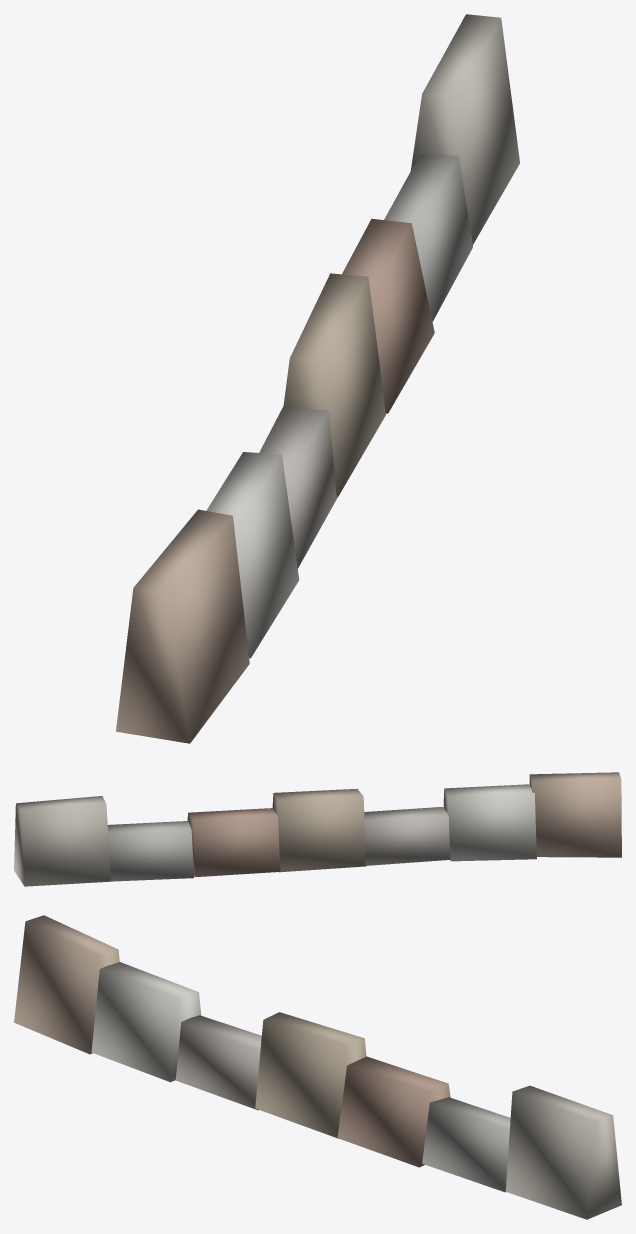
The model's file is farm_-3_13_far.glb.
3 renders of one model, top to bottom at view 1: azimuth 30°, elevation 25°; view 2: azimuth 150°, elevation 25°; view 3: azimuth 270°, elevation 25°, orthographic. The views are drawn at different scales.
Parts seen in each view (by area): view 1: geometry_0; view 2: geometry_0; view 3: geometry_0.
Part boxes in pixels (box(x1,y1,x2,y2)): geometry_0: box(116, 14, 519, 743); geometry_0: box(14, 772, 621, 886); geometry_0: box(14, 915, 621, 1219).
Bounding box in the file's own units: 8.43 × 2.15 × 8.35.
